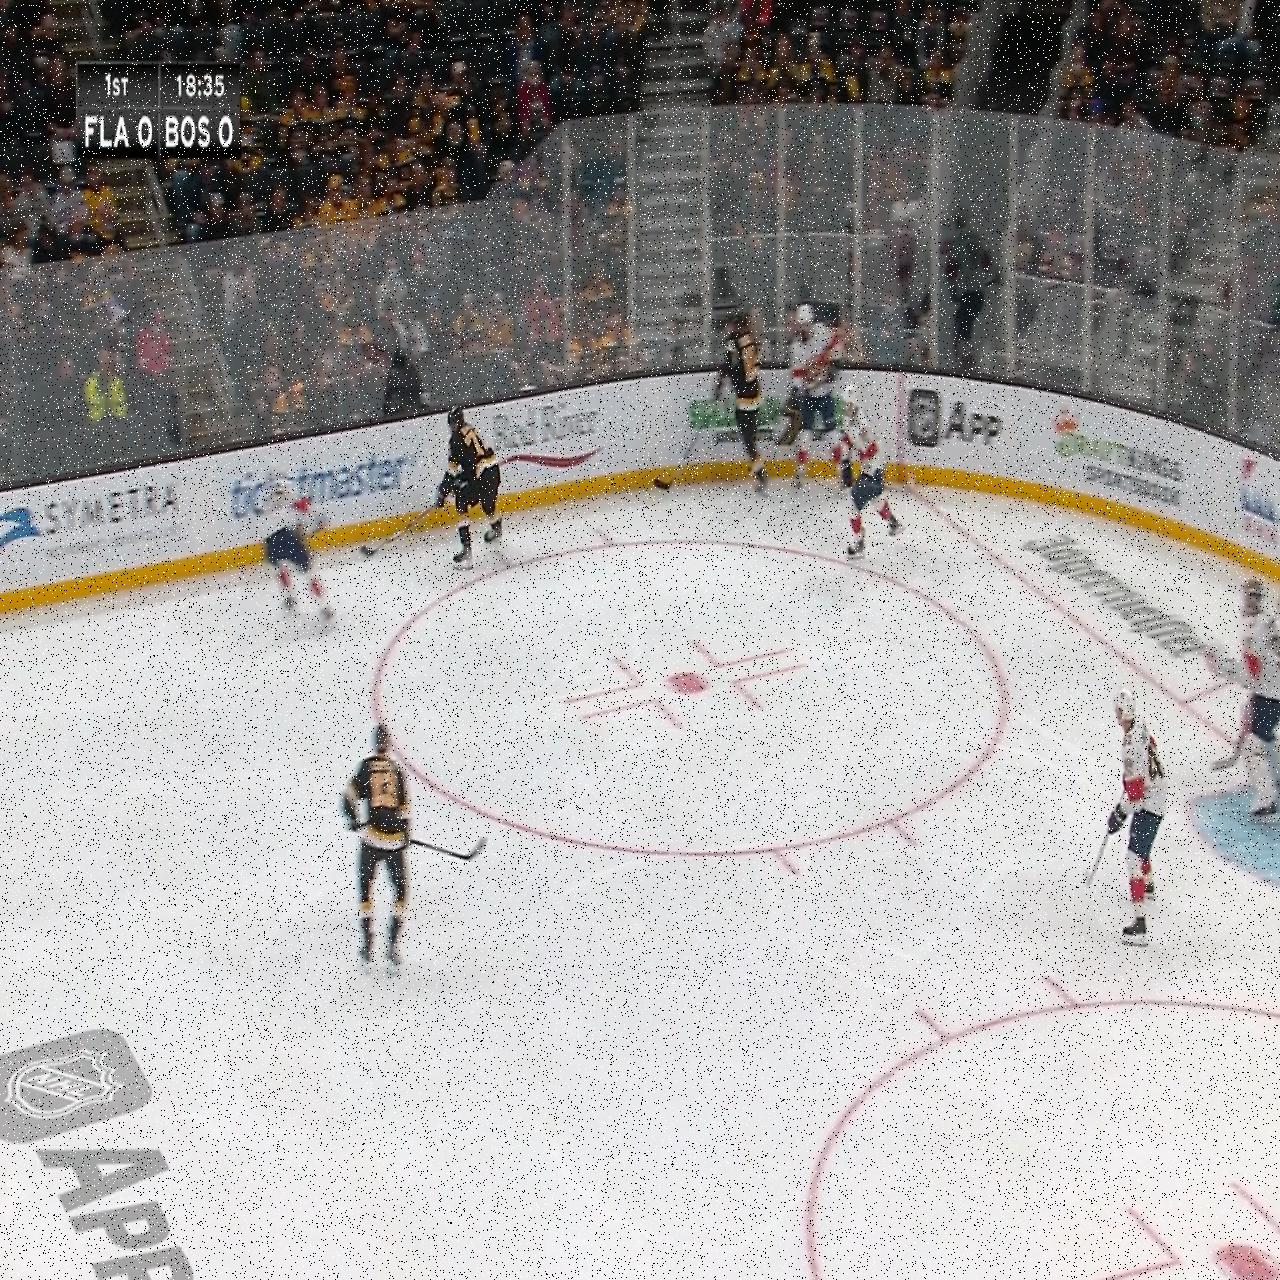Ad: (0, 1017, 199, 1279), (1020, 522, 1212, 681), (0, 471, 188, 592), (230, 445, 418, 539), (1043, 401, 1191, 508), (492, 384, 602, 485), (694, 375, 856, 442), (906, 377, 1017, 467), (1235, 441, 1280, 549)
